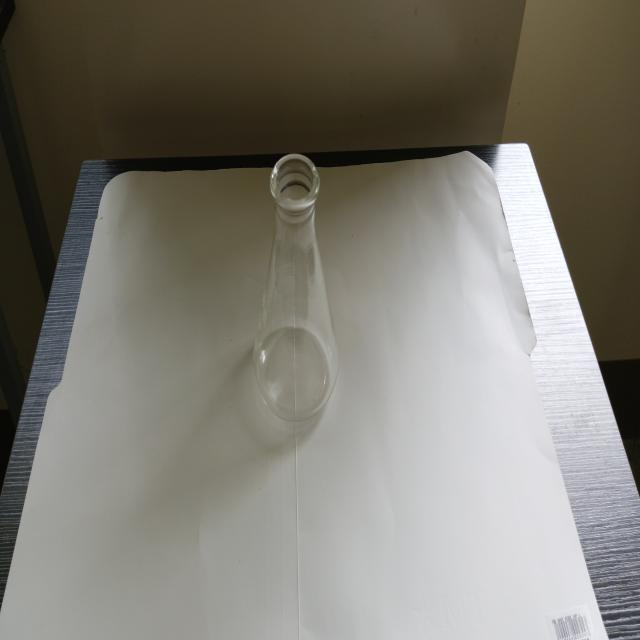erlenmeyer_flask: (246, 146, 346, 424)
